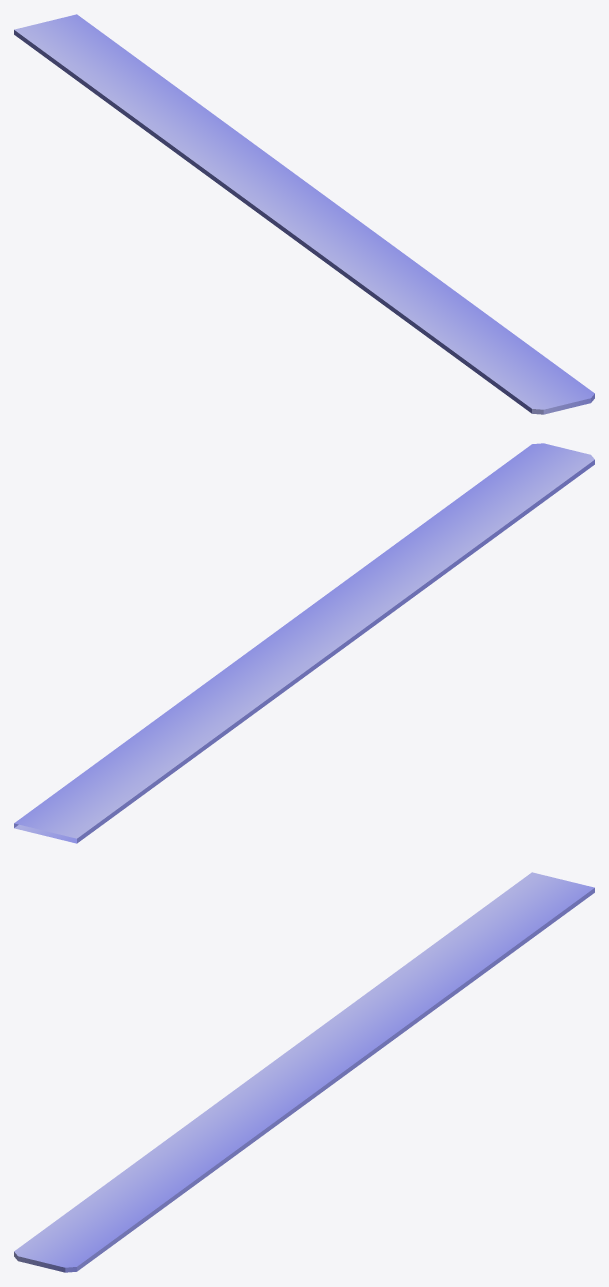
The model's file is KalimbaProngAlt.obj.
The picture shows the model from 3 angles, top to bottom: view 1: azimuth 30°, elevation 25°; view 2: azimuth 150°, elevation 25°; view 3: azimuth 330°, elevation 25°; orthographic projection.
Parts seen in each view (by area): view 1: Plane.002; view 2: Plane.002; view 3: Plane.002.
Boxes of the visible parts, box(x1,y1,x2,y2) form: Plane.002: box(14, 14, 594, 414); Plane.002: box(14, 443, 594, 843); Plane.002: box(14, 872, 594, 1272).
Size of the model in its own units: 0.1652 by 0.0124 by 2.37.
Materials: 1 (1 with a texture image).
